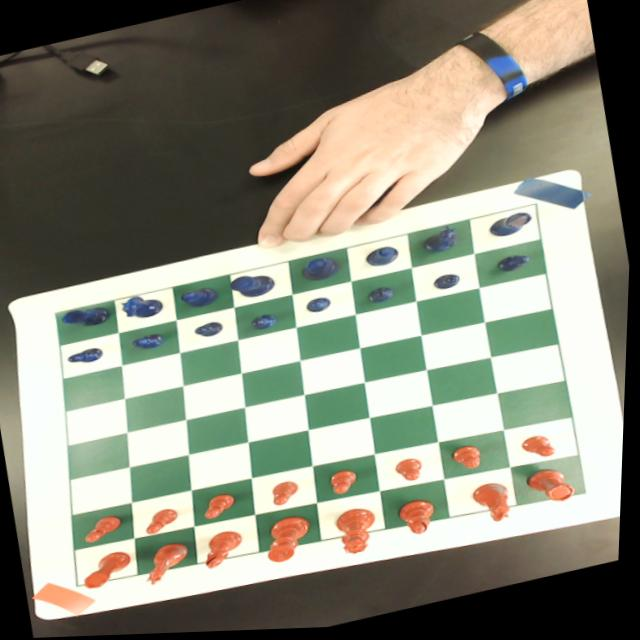B: (181, 287, 222, 313), (364, 248, 402, 273)
K: (229, 272, 279, 305)
N: (119, 291, 167, 326), (422, 225, 464, 261)
P: (66, 346, 106, 369), (130, 333, 167, 356), (497, 256, 534, 279), (429, 275, 463, 297), (304, 296, 336, 318), (194, 322, 226, 342), (368, 289, 400, 309), (251, 315, 279, 335)
Q: (301, 257, 343, 287)
R: (62, 303, 114, 333), (487, 214, 535, 244)
b: (202, 530, 251, 572), (399, 500, 446, 542)
k: (264, 515, 320, 567)
n: (142, 541, 199, 589), (472, 483, 516, 530)
p: (84, 514, 129, 546), (522, 436, 561, 466), (145, 508, 184, 537), (452, 446, 487, 477), (204, 494, 240, 523), (395, 460, 428, 488), (331, 472, 364, 499), (273, 481, 304, 509)
q: (336, 508, 385, 560)
r: (82, 550, 140, 593), (527, 468, 581, 513)
